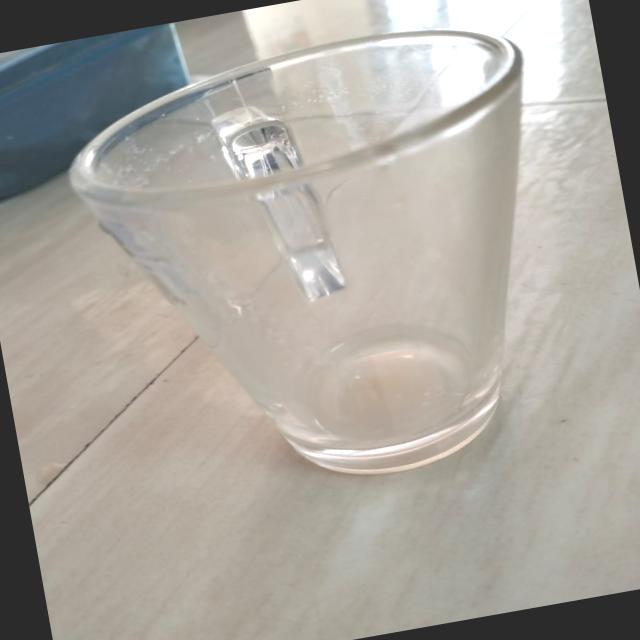glass-VX4N: (46, 7, 589, 523)
